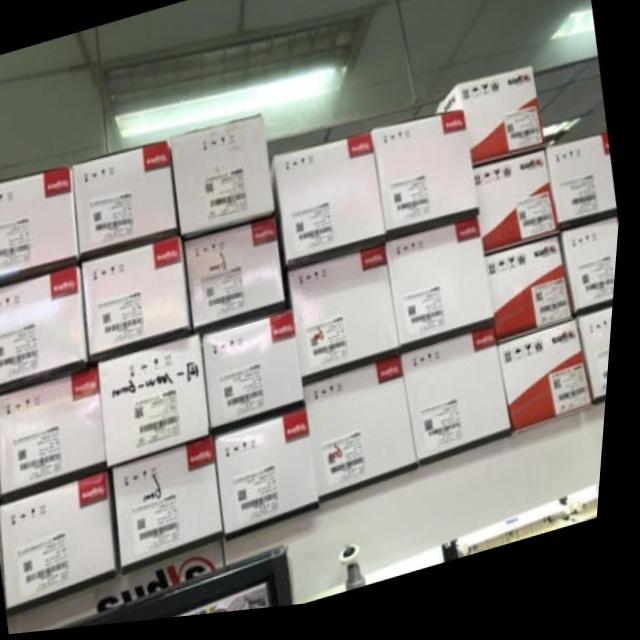box: (7, 463, 132, 609), (308, 355, 425, 504), (404, 329, 518, 471), (273, 139, 389, 278), (104, 330, 219, 470), (285, 251, 405, 385), (219, 404, 327, 542), (85, 240, 199, 369), (0, 367, 114, 496), (119, 440, 233, 569), (373, 121, 485, 251), (389, 229, 500, 356), (74, 144, 184, 266), (170, 120, 278, 243), (206, 309, 311, 434), (0, 264, 96, 396), (186, 219, 289, 333), (435, 76, 549, 178), (505, 330, 600, 445), (0, 165, 85, 287), (489, 245, 580, 356), (476, 159, 561, 266), (550, 146, 622, 245), (562, 228, 623, 331), (583, 319, 618, 416)
